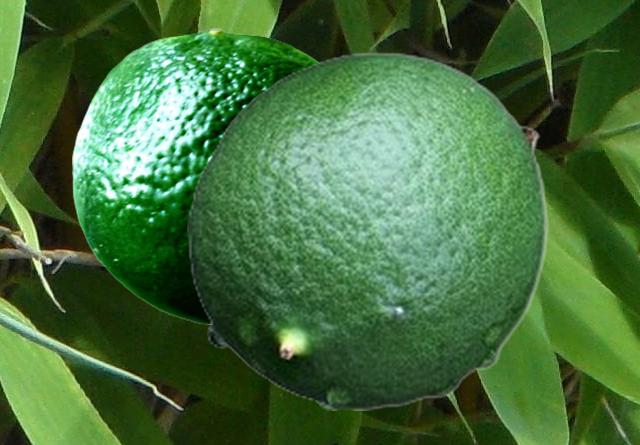calamansi: (187, 51, 547, 409), (72, 27, 319, 323)
